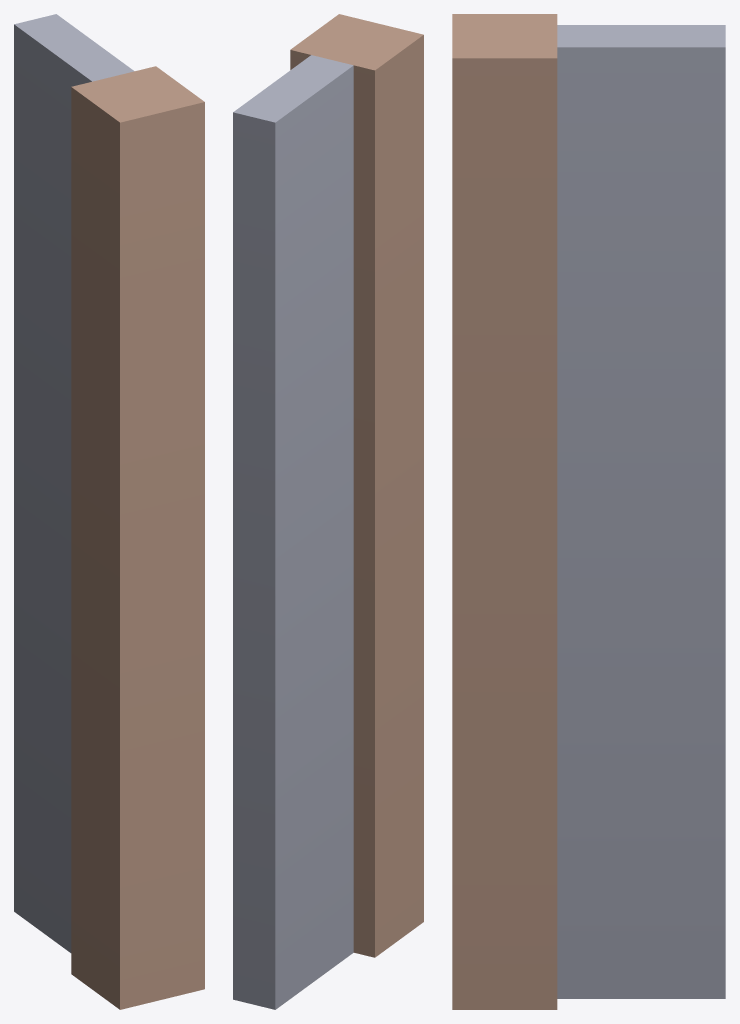
Rendered from wall-side.glb.
3 renders of one model, left to right at view 1: azimuth 30°, elevation 25°; view 2: azimuth 150°, elevation 25°; view 3: azimuth 270°, elevation 25°, orthographic. The views are drawn at different scales.
Visible parts, largest first — view 1: wall-side; view 2: wall-side; view 3: wall-side.
Boxes of the visible parts, <box> form: wall-side: <box>14,14,204,1009</box>; wall-side: <box>233,14,423,1009</box>; wall-side: <box>452,14,725,1009</box>.
Size of the model in its own units: 0.1 by 1 by 0.26.
